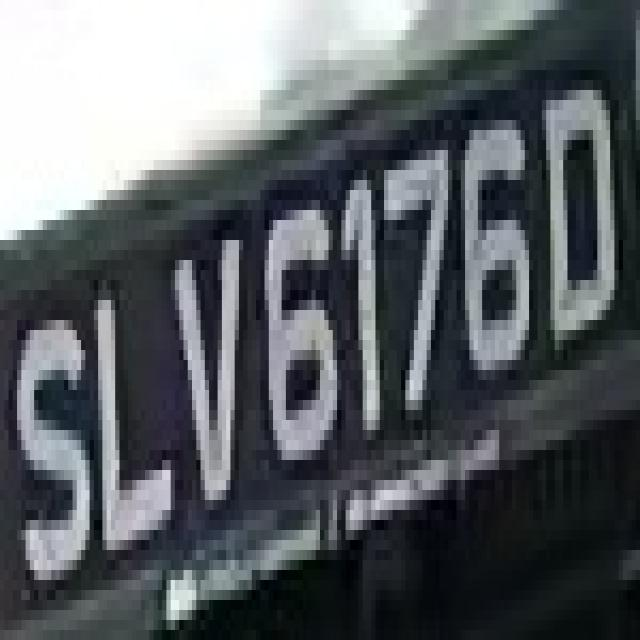1: (328, 180, 392, 440)
6: (439, 110, 542, 390), (243, 190, 337, 470)
7: (367, 110, 456, 440)
D: (538, 80, 618, 390)
L: (86, 260, 180, 560)
S: (13, 280, 102, 610)
V: (154, 210, 256, 510)
